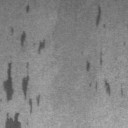red iron: (3, 62, 40, 114), (10, 27, 26, 46), (89, 80, 110, 94), (94, 5, 106, 28), (5, 112, 21, 128), (38, 40, 46, 54), (26, 4, 30, 13), (99, 52, 102, 64), (86, 62, 90, 71), (120, 88, 124, 94)
